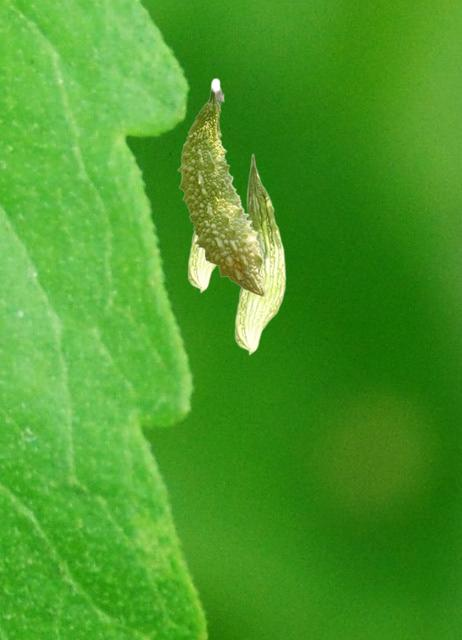ampalaya: (176, 77, 267, 299), (232, 151, 288, 356), (187, 231, 216, 294)
